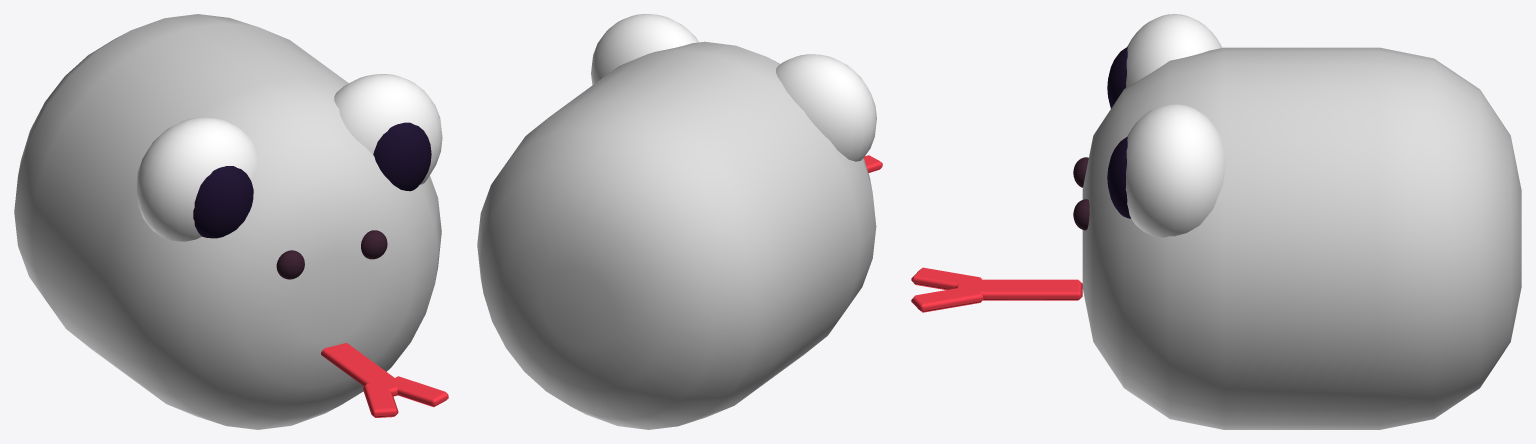
The model's file is snake_head.glb.
3 views of the same model, side by side, from view 1: azimuth 30°, elevation 25°; view 2: azimuth 150°, elevation 25°; view 3: azimuth 270°, elevation 25° (orthographic). The views are drawn at different scales.
Visible parts, largest first — view 1: Tint_Head, EyeWhite, EyeWhite.001, EyePupil, EyePupil.001, Tongue, TongueFork.001, TongueFork, Nostril, Nostril.001; view 2: Tint_Head, EyeWhite, EyeWhite.001; view 3: Tint_Head, EyeWhite.001, EyeWhite, Tongue, TongueFork.001, EyePupil.001, TongueFork, EyePupil.
Part boxes in pixels (<box>): Tint_Head: <box>14,14,441,429</box>; EyeWhite: <box>136,117,257,241</box>; EyeWhite.001: <box>334,74,442,184</box>; EyePupil: <box>193,166,253,238</box>; EyePupil.001: <box>373,122,431,191</box>; Tongue: <box>321,343,403,396</box>; TongueFork.001: <box>395,376,448,407</box>; TongueFork: <box>363,383,398,417</box>; Nostril: <box>276,250,304,279</box>; Nostril.001: <box>361,230,387,259</box>; Tint_Head: <box>477,41,876,429</box>; EyeWhite: <box>776,54,876,161</box>; EyeWhite.001: <box>591,14,698,84</box>; Tint_Head: <box>1082,47,1521,429</box>; EyeWhite.001: <box>1125,103,1225,237</box>; EyeWhite: <box>1126,14,1222,87</box>; Tongue: <box>955,279,1082,300</box>; TongueFork.001: <box>911,287,984,312</box>; EyePupil.001: <box>1107,136,1131,218</box>; TongueFork: <box>911,267,981,289</box>; EyePupil: <box>1107,47,1127,108</box>.
Size of the model in its own units: 0.54 by 0.54 by 0.8616.
